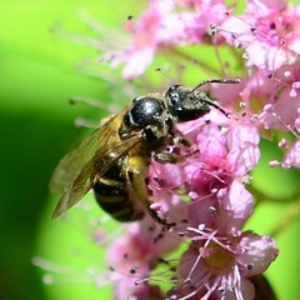bee: (48, 79, 240, 225)
